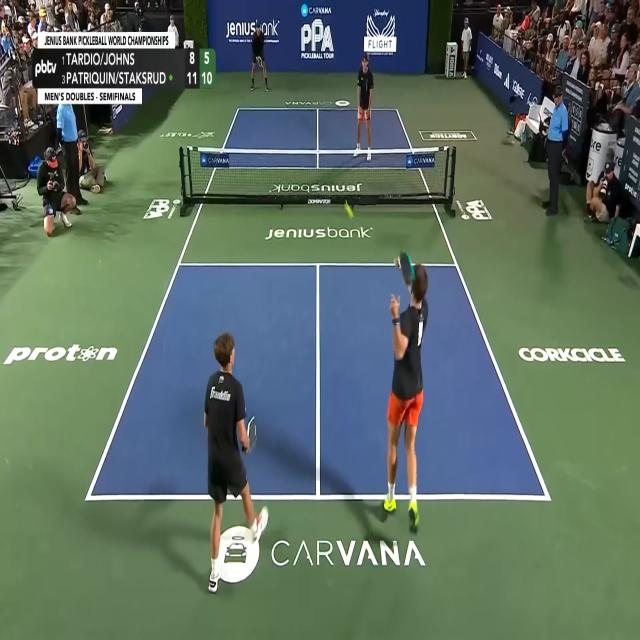ball: (346, 204, 352, 219)
